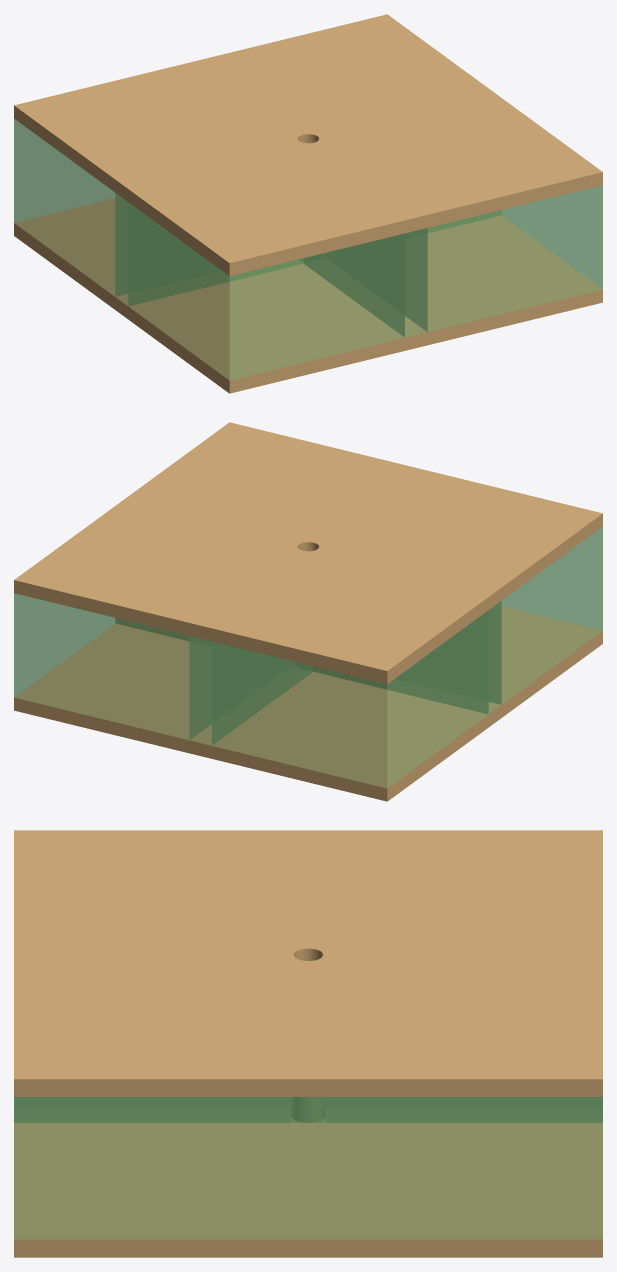
File: board.glb
3 renders of one model, top to bottom at view 1: azimuth 30°, elevation 25°; view 2: azimuth 150°, elevation 25°; view 3: azimuth 270°, elevation 25°, orthographic. The views are drawn at different scales.
Visible parts, largest first — view 1: Substrate_Layer_2_Z0, Substrate_Layer_1_Z0, Substrate_Layer_0_Z0; view 2: Substrate_Layer_2_Z0, Substrate_Layer_1_Z0, Substrate_Layer_0_Z0; view 3: Substrate_Layer_2_Z0, Substrate_Layer_1_Z0, Substrate_Layer_0_Z0, Unified_Via_3.
Part boxes in pixels (bbox=[...]): Substrate_Layer_2_Z0: bbox=[14, 14, 602, 276]; Substrate_Layer_1_Z0: bbox=[14, 118, 602, 380]; Substrate_Layer_0_Z0: bbox=[14, 198, 602, 393]; Substrate_Layer_2_Z0: bbox=[14, 422, 602, 684]; Substrate_Layer_1_Z0: bbox=[14, 526, 602, 788]; Substrate_Layer_0_Z0: bbox=[14, 606, 602, 801]; Substrate_Layer_2_Z0: bbox=[14, 830, 602, 1096]; Substrate_Layer_1_Z0: bbox=[14, 1097, 602, 1239]; Substrate_Layer_0_Z0: bbox=[14, 1116, 602, 1257]; Unified_Via_3: bbox=[273, 940, 343, 969].
Size of the model in its own units: 0.005 by 0.00167 by 0.005.
